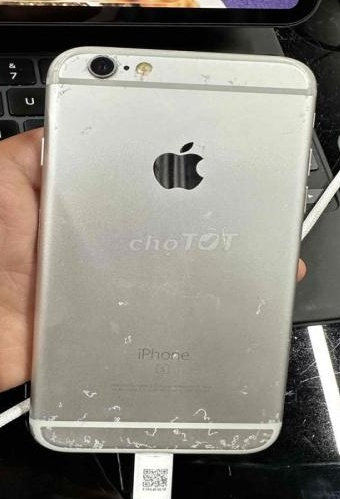scratch: (34, 38, 330, 107), (32, 378, 285, 453), (105, 287, 140, 352), (242, 278, 273, 336), (76, 118, 98, 139)
